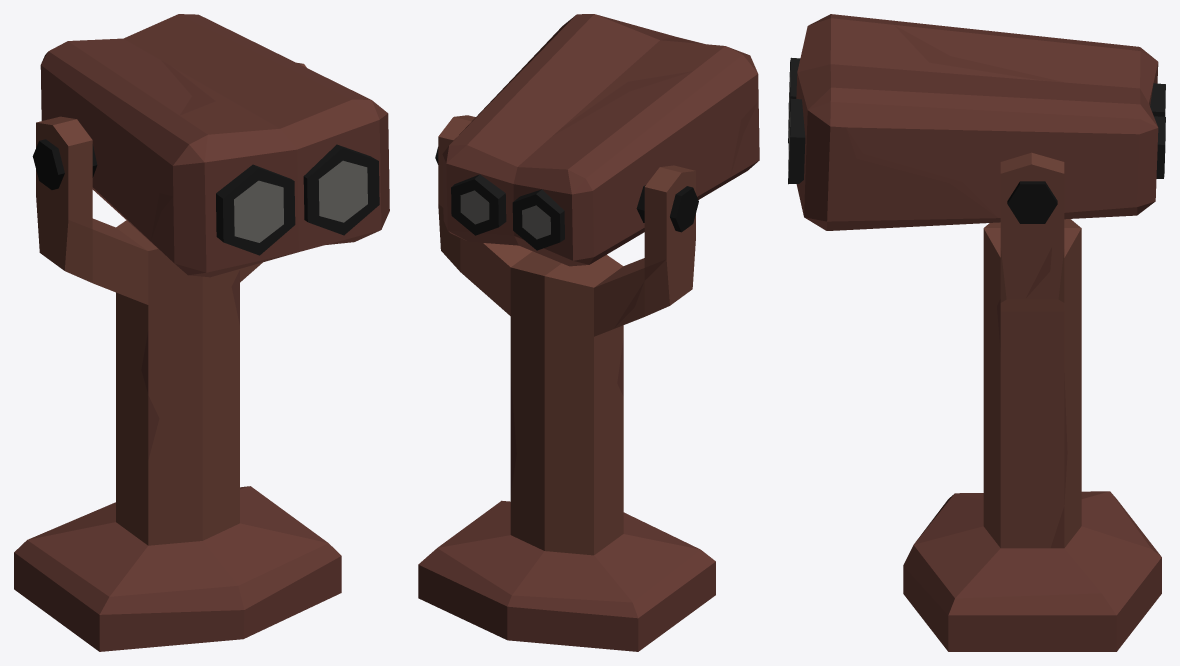
The model's file is binoculars_wooden.fbx.
The picture shows the model from 3 angles, left to right: view 1: azimuth 30°, elevation 25°; view 2: azimuth 150°, elevation 25°; view 3: azimuth 270°, elevation 25°; orthographic projection. The views are drawn at different scales.
Visible parts, largest first — view 1: binoculars_stand.001, binoculars.001; view 2: binoculars_stand.001, binoculars.001; view 3: binoculars.001, binoculars_stand.001.
Boxes of the visible parts, left/top/right/bottom form: binoculars_stand.001: left=14, top=62, right=341, bottom=651; binoculars.001: left=40, top=14, right=389, bottom=277; binoculars_stand.001: left=418, top=115, right=715, bottom=651; binoculars.001: left=442, top=14, right=759, bottom=266; binoculars.001: left=788, top=14, right=1165, bottom=230; binoculars_stand.001: left=903, top=152, right=1161, bottom=651.
Bounding box in the file's own units: 41.76 × 82.67 × 52.35.
